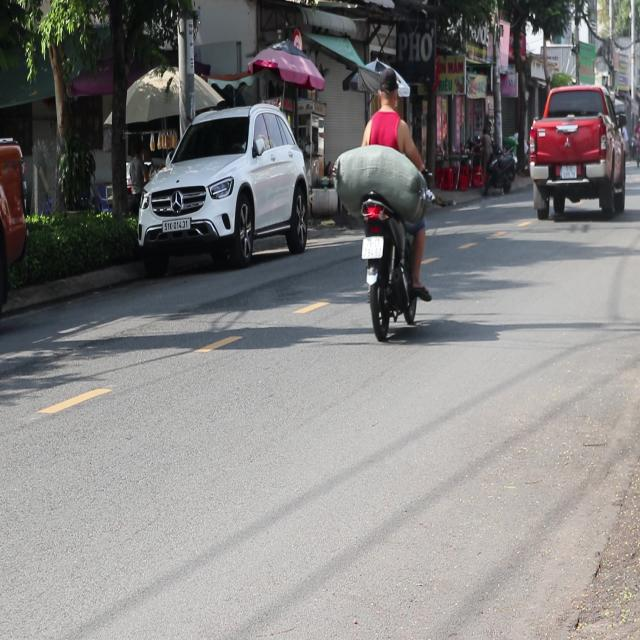licenseplate: (338, 64, 432, 339)
motorcyclist: (376, 65, 399, 110)
nohelmet: (361, 236, 383, 258)
